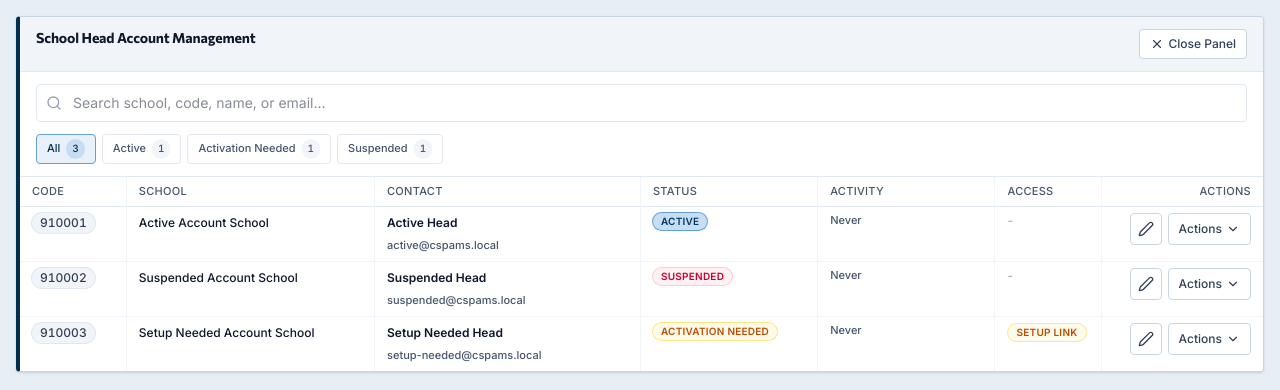
Test case: MonitorSchoolHeadAccountsPanel › filters rows without mutating account status or firing account actions
Expected: the button "Active Account School" is shown, [139,212,362,232]
Expected: the button "Suspended Account School" is shown, [139,268,362,288]
Click the button "Active 1".
click(142, 149)  # box [102,134,181,164]
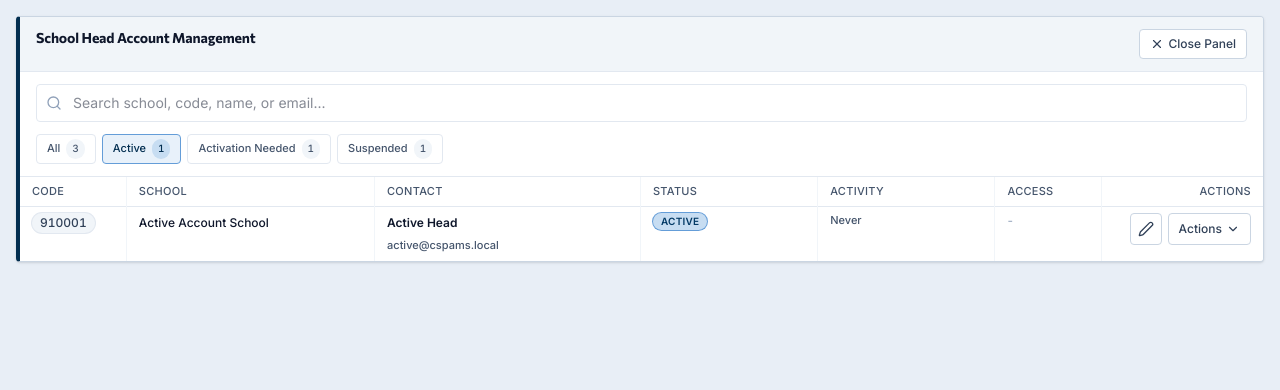
Expected: the button "Active Account School" is shown, [139,212,362,232]
Now the button "Suspended Account School" is gone
Now the button "Setup Needed Account School" is gone
Click the button "Activation Needed 1".
click(259, 149)  # box [188,134,331,164]
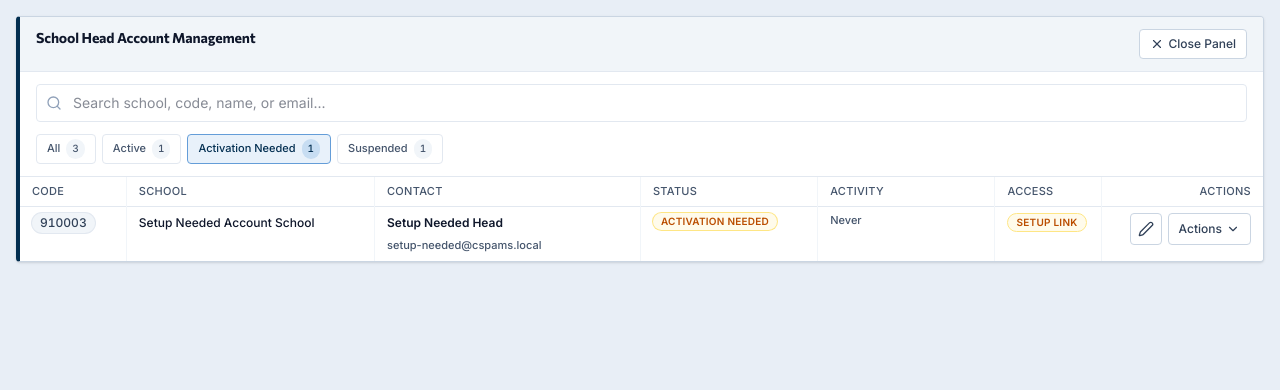
Expected: the button "Suspended Account School" is not shown
Now the button "Active Account School" is gone
Now the button "Setup Needed Account School" is shown, box [139,212,362,232]
Click the button "Suspended 1".
click(390, 149)  # box [337,134,443,164]
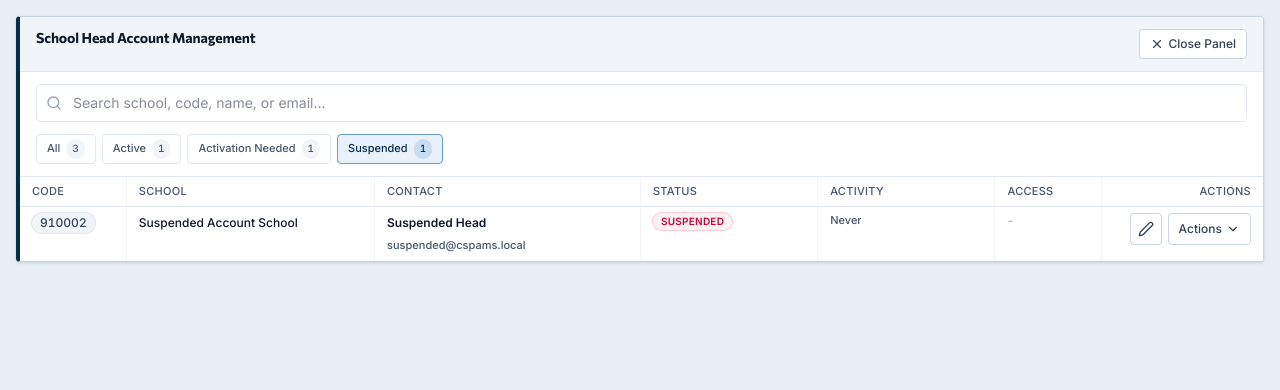
Expected: the button "Active Account School" is not shown
Now the button "Setup Needed Account School" is gone
Now the button "Suspended Account School" is shown, box [139,212,362,232]
